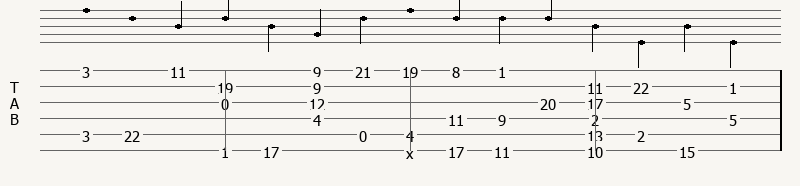0: (221, 95, 233, 110), (359, 127, 371, 142)
1: (221, 143, 233, 158), (498, 63, 510, 78), (729, 79, 741, 94)
10: (587, 143, 607, 158)
11: (170, 63, 190, 78), (448, 111, 468, 126), (494, 143, 514, 158), (587, 79, 607, 94)
12: (309, 95, 329, 110)
13: (587, 127, 607, 142)
15: (679, 143, 699, 158)
17: (263, 143, 283, 158), (448, 143, 468, 158), (587, 95, 607, 110)
19: (217, 79, 237, 94), (402, 63, 422, 78)
2: (591, 111, 603, 126), (637, 127, 649, 142)
20: (540, 95, 560, 110)
21: (355, 63, 375, 78)
22: (124, 127, 144, 142), (633, 79, 653, 94)
3: (82, 63, 94, 78), (82, 127, 94, 142)
4: (313, 111, 325, 126), (406, 127, 418, 142)
5: (683, 95, 695, 110), (729, 111, 741, 126)
8: (452, 63, 464, 78)
9: (313, 63, 325, 78), (313, 79, 325, 94), (498, 111, 510, 126)
x: (406, 144, 418, 156)
